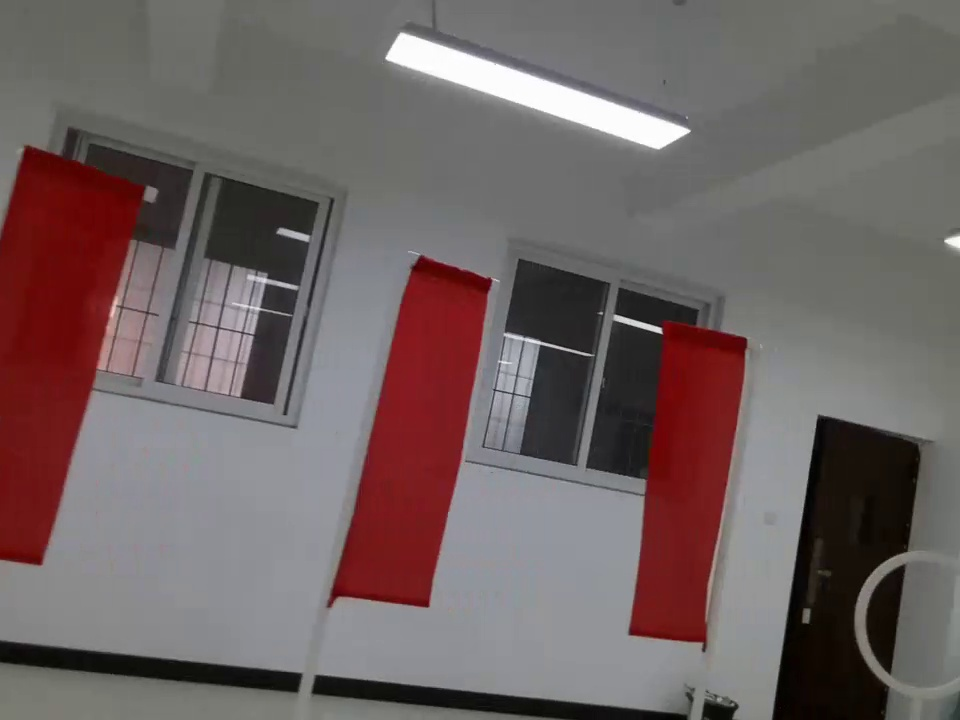qi: (322, 245, 506, 648), (1, 131, 156, 602), (630, 312, 766, 675)
quan: (850, 550, 960, 705)
